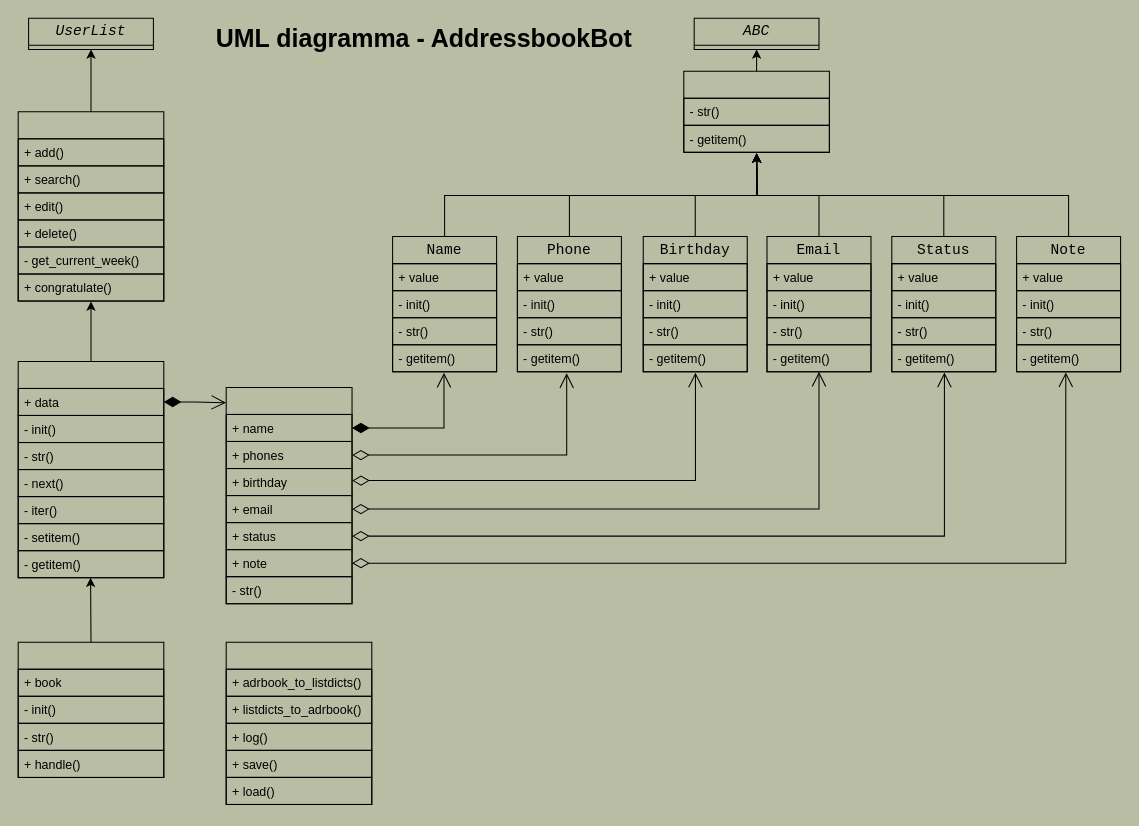
Some shapes in this 1139 by 826 pixel diagram are drawn without their labels. The box of each missing label's shape, as (x1, y1, x2, y2) in pixels:
AddressBook: (17, 360, 164, 578)
Bot: (17, 641, 164, 777)
Field: (683, 70, 829, 152)
Operations: (17, 111, 164, 301)
Record: (225, 386, 352, 604)
Storage: (225, 641, 372, 804)
